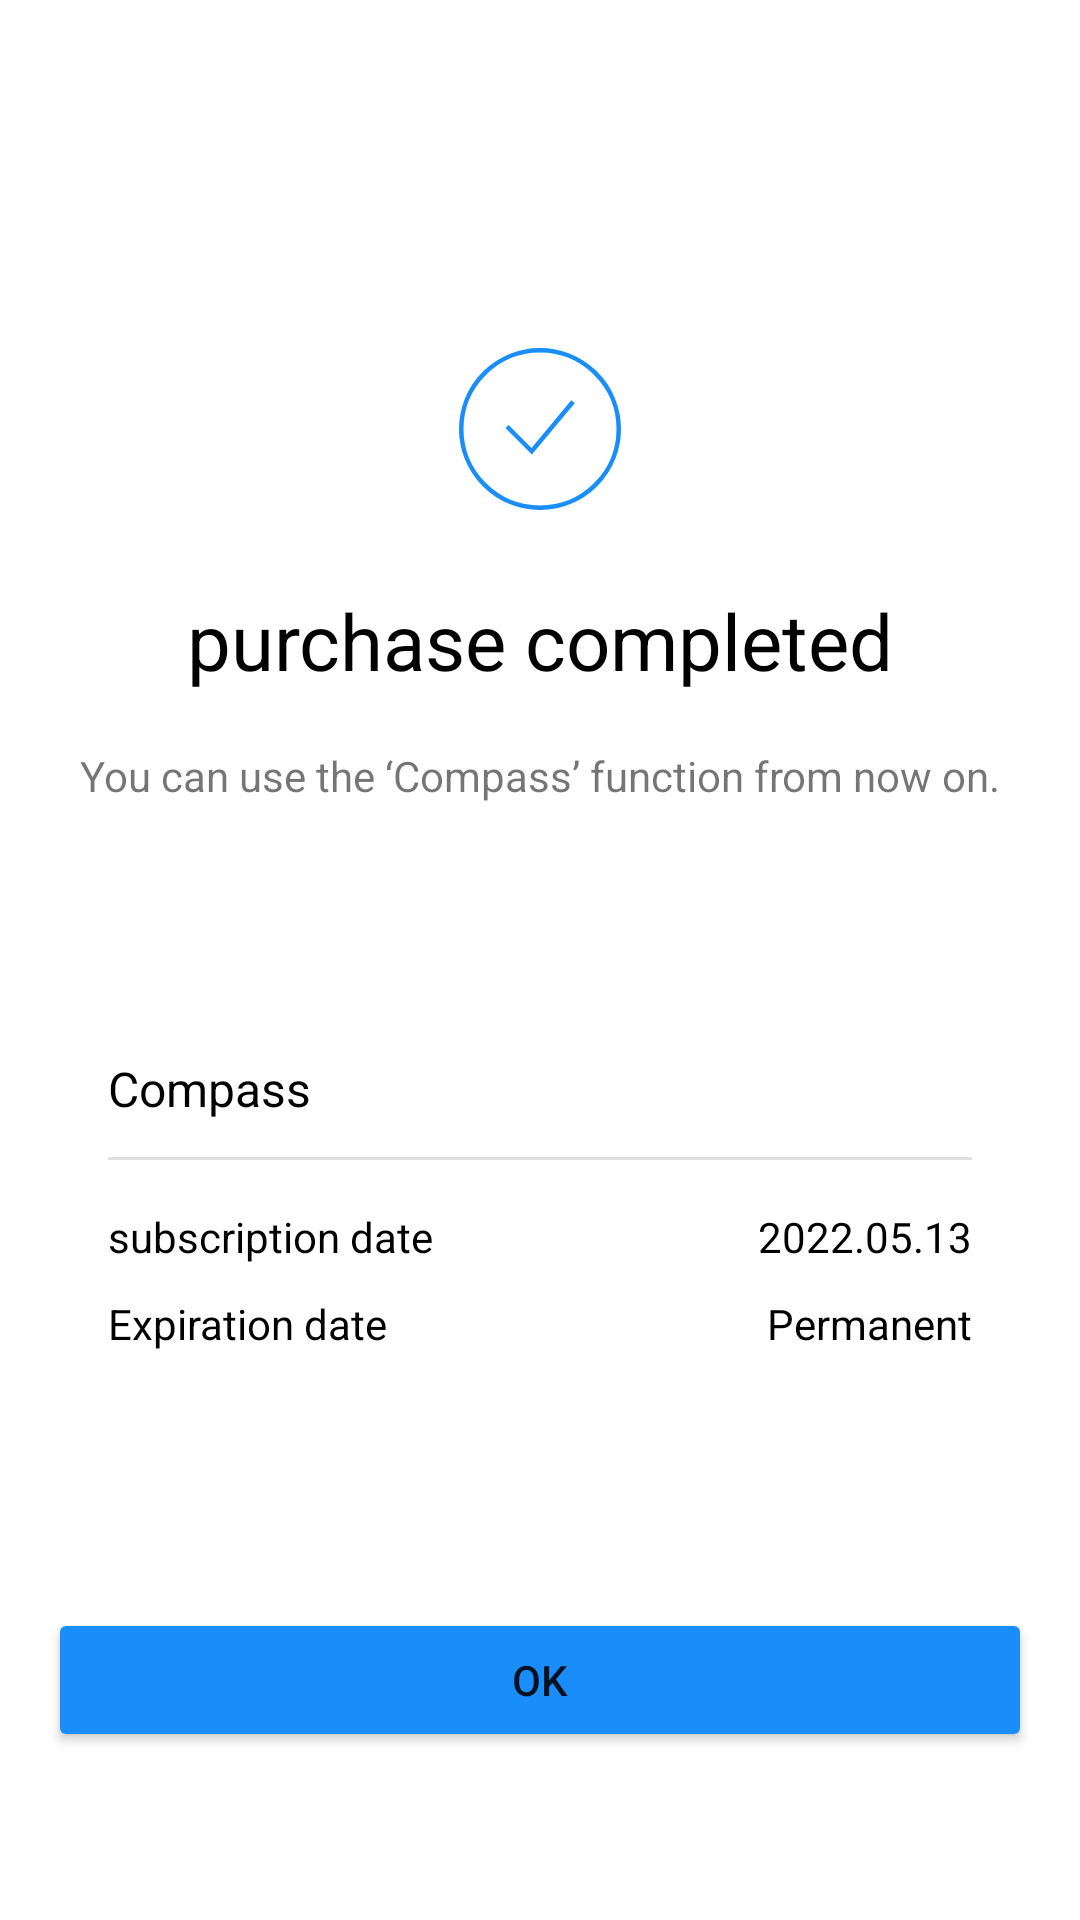

Screen size 1080px x 1920px. Icon name, then its box in pixels as (x1, y1, x2, y2):
confirm: (459, 348, 621, 510)
